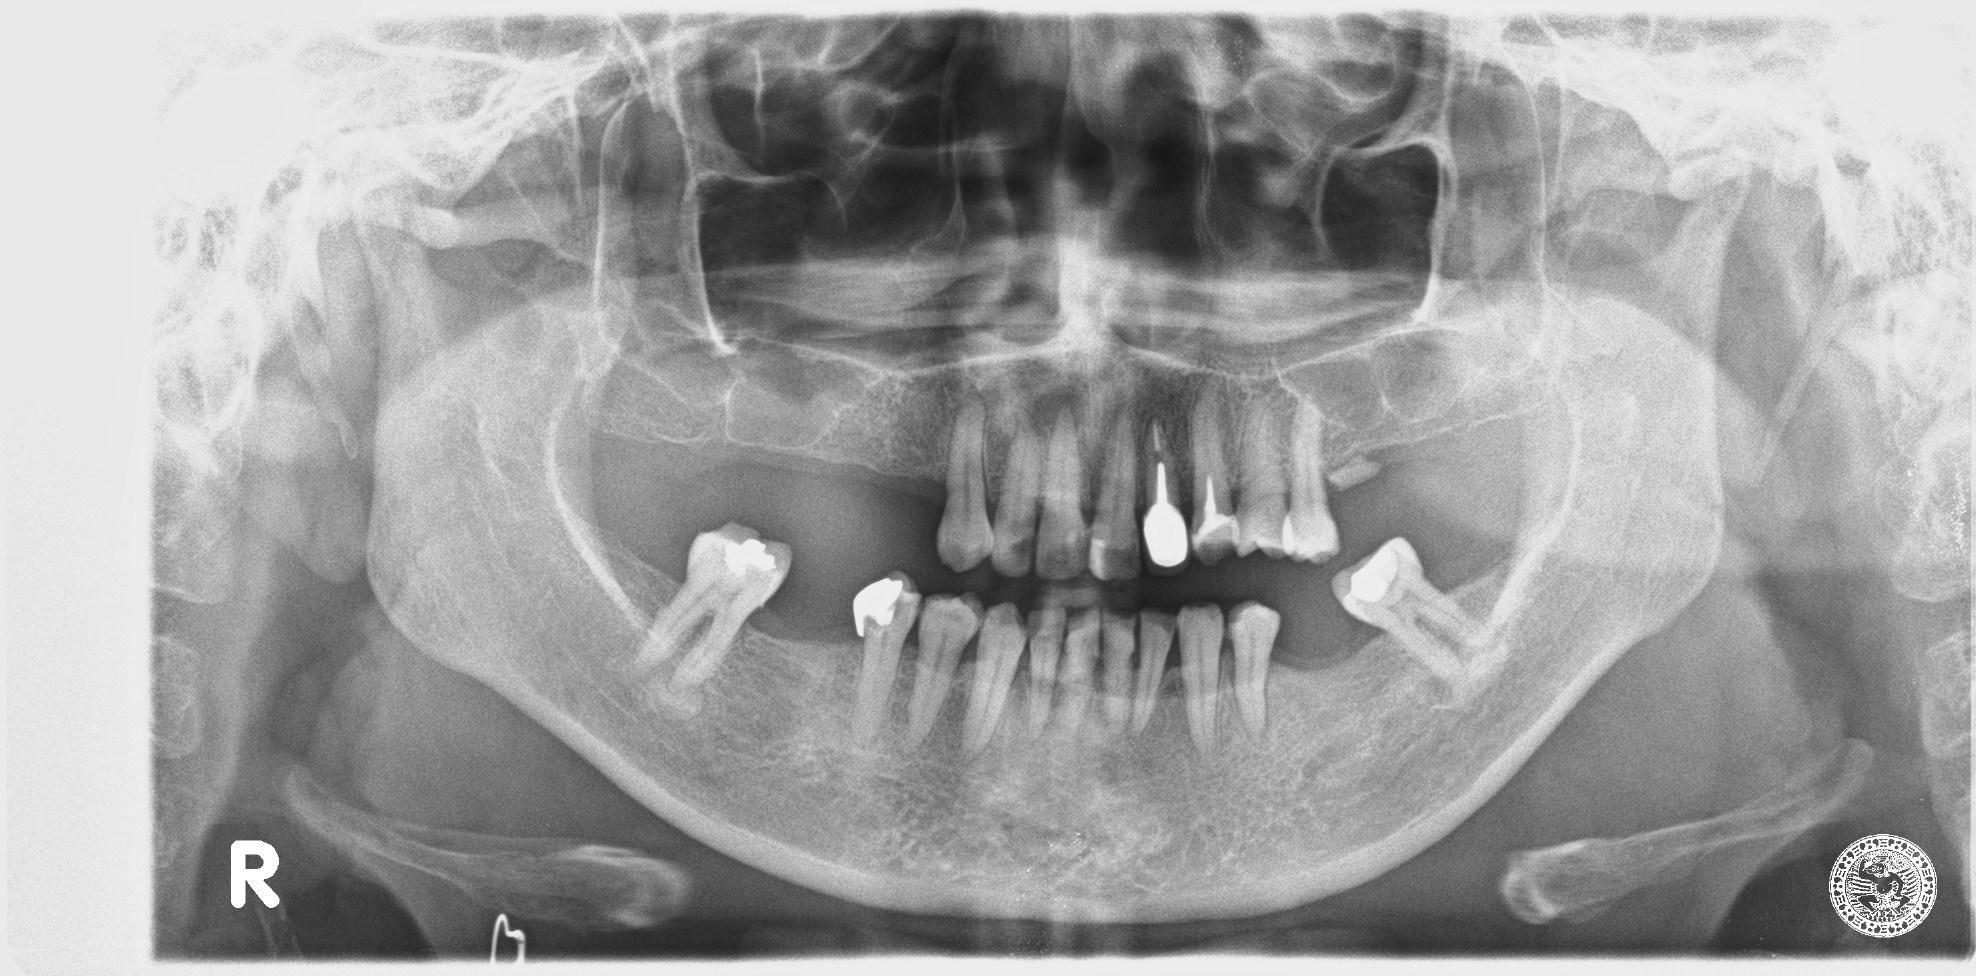Individual Tooth: (634, 520, 793, 692), (1330, 532, 1495, 682), (904, 594, 982, 747), (852, 572, 920, 741), (1279, 400, 1340, 562), (938, 405, 996, 572), (963, 603, 1025, 757), (1190, 382, 1241, 565), (1035, 407, 1088, 580), (1089, 409, 1140, 580), (1235, 393, 1287, 557), (989, 427, 1043, 576), (1140, 424, 1191, 574), (1176, 605, 1225, 755), (1225, 601, 1280, 731), (1130, 610, 1176, 733), (1056, 610, 1100, 728), (1098, 612, 1137, 731), (1030, 607, 1067, 729)
